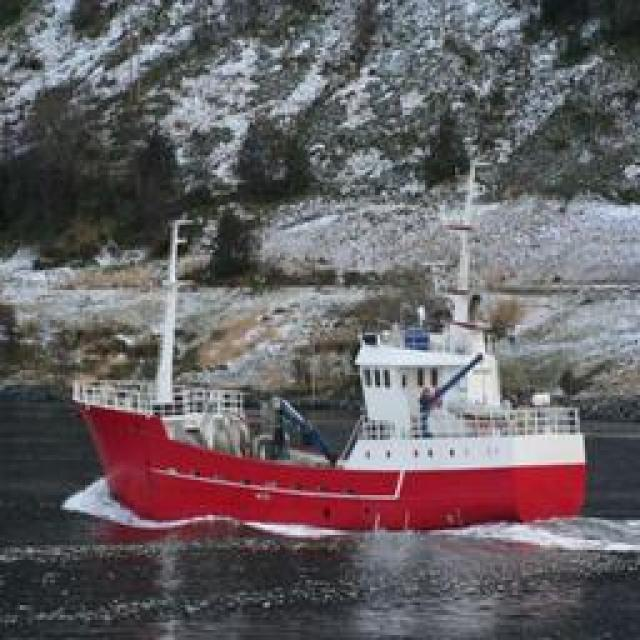ship2: (63, 161, 589, 532)
